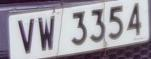3: (69, 7, 89, 50), (88, 4, 108, 47)
4: (124, 3, 145, 38)
5: (106, 1, 127, 44)
V: (15, 17, 37, 57)
W: (36, 14, 59, 56)
